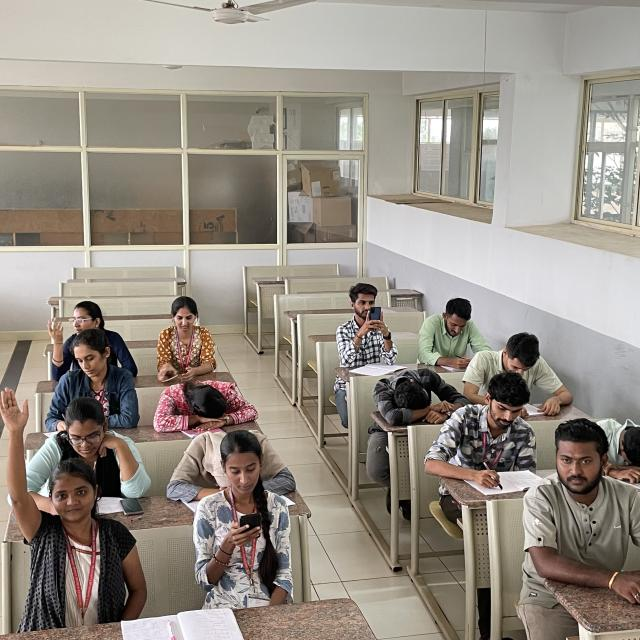Hand Rising: (0, 382, 119, 620)
Reading: (18, 402, 121, 513), (474, 339, 576, 418), (419, 304, 493, 377)
Sleeping: (156, 426, 294, 502), (372, 356, 474, 424), (154, 373, 262, 431), (590, 406, 640, 484)
Using Phone: (188, 436, 290, 602), (157, 294, 220, 382), (334, 284, 401, 361)
Writing: (428, 372, 541, 493)
